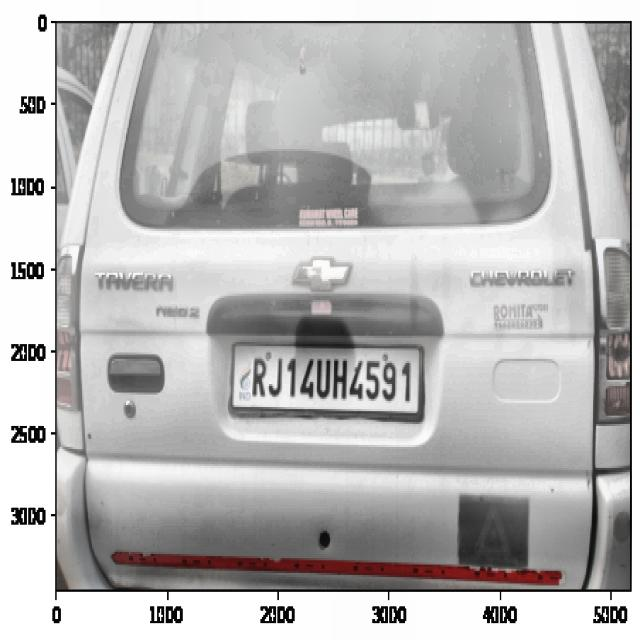license_plate: (246, 346, 419, 415)
